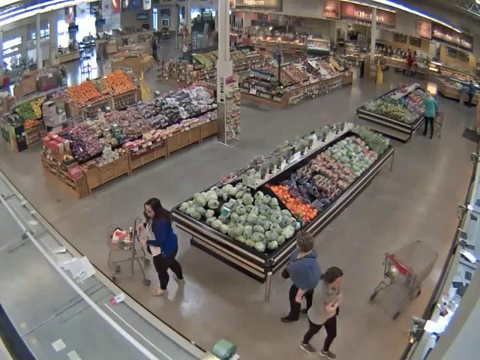face: (143, 203, 156, 219), (331, 274, 343, 288)
